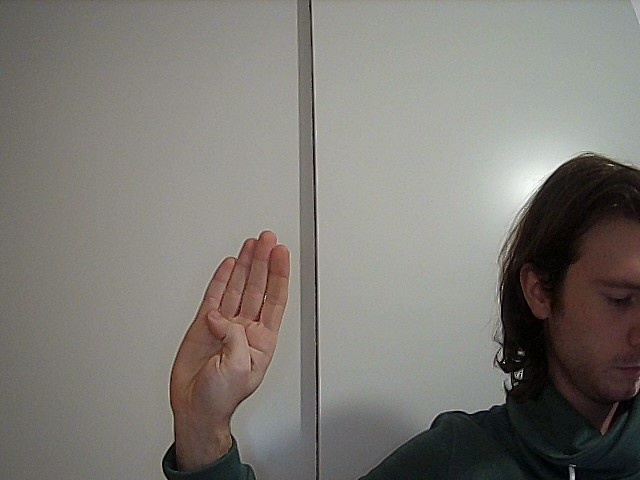b: (152, 221, 307, 427)
